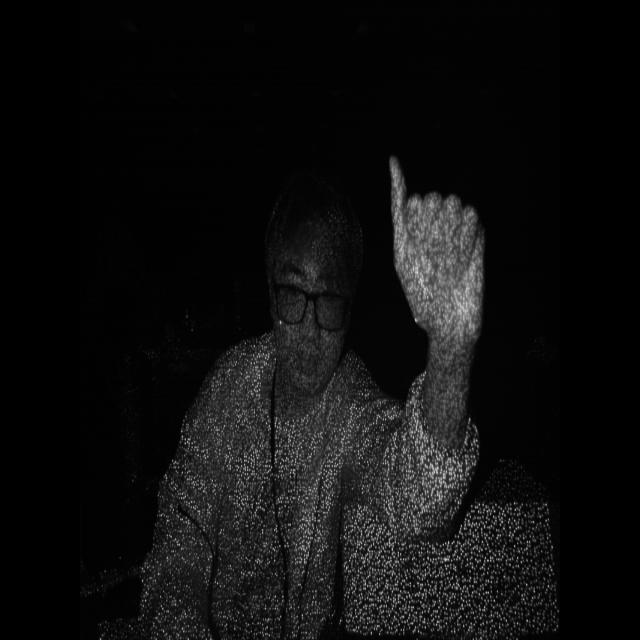A: (383, 154, 505, 377)
